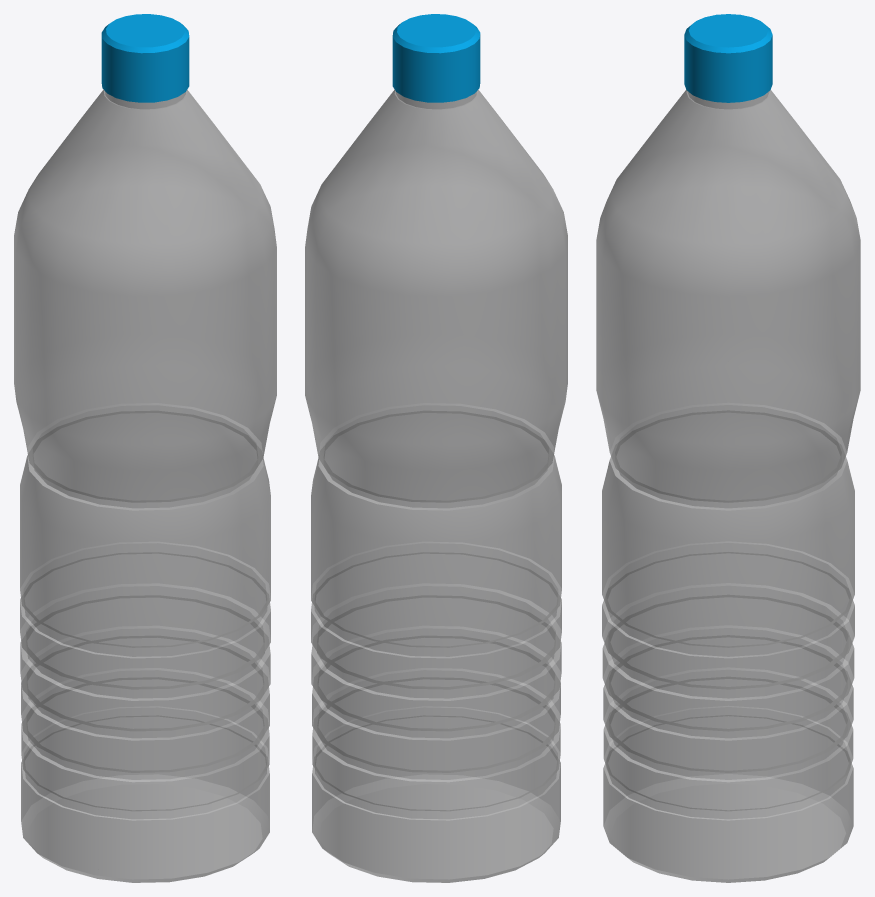
File: Plastic Bottle.fbx
3 views of the same model, side by side, from view 1: azimuth 30°, elevation 25°; view 2: azimuth 150°, elevation 25°; view 3: azimuth 270°, elevation 25° (orthographic).
Visible parts, largest first — view 1: Bottle; view 2: Bottle; view 3: Bottle.
Part boxes in pixels (box(x1,y1,x2,y2)): Bottle: box(14, 14, 276, 882); Bottle: box(305, 14, 567, 882); Bottle: box(596, 14, 860, 882).
Bounding box in the file's own units: 2.47 × 8.27 × 2.47.
